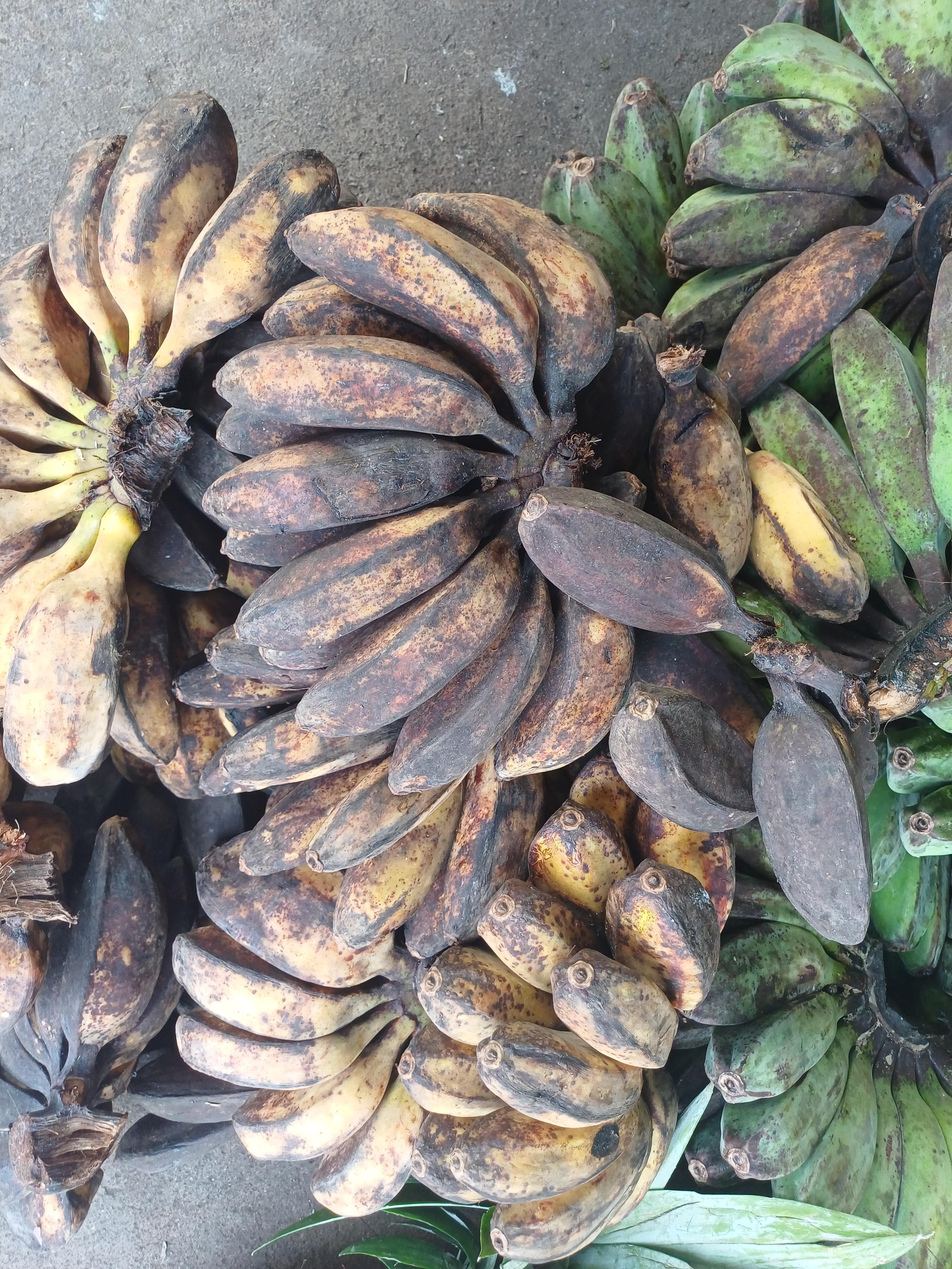overripe: (203, 192, 636, 797), (171, 624, 545, 958), (0, 813, 201, 1127)
ripe: (0, 90, 343, 792), (399, 757, 735, 1264), (172, 831, 426, 1220)
underripe: (671, 823, 952, 1269), (658, 0, 952, 349), (749, 246, 952, 586), (541, 76, 730, 319)
